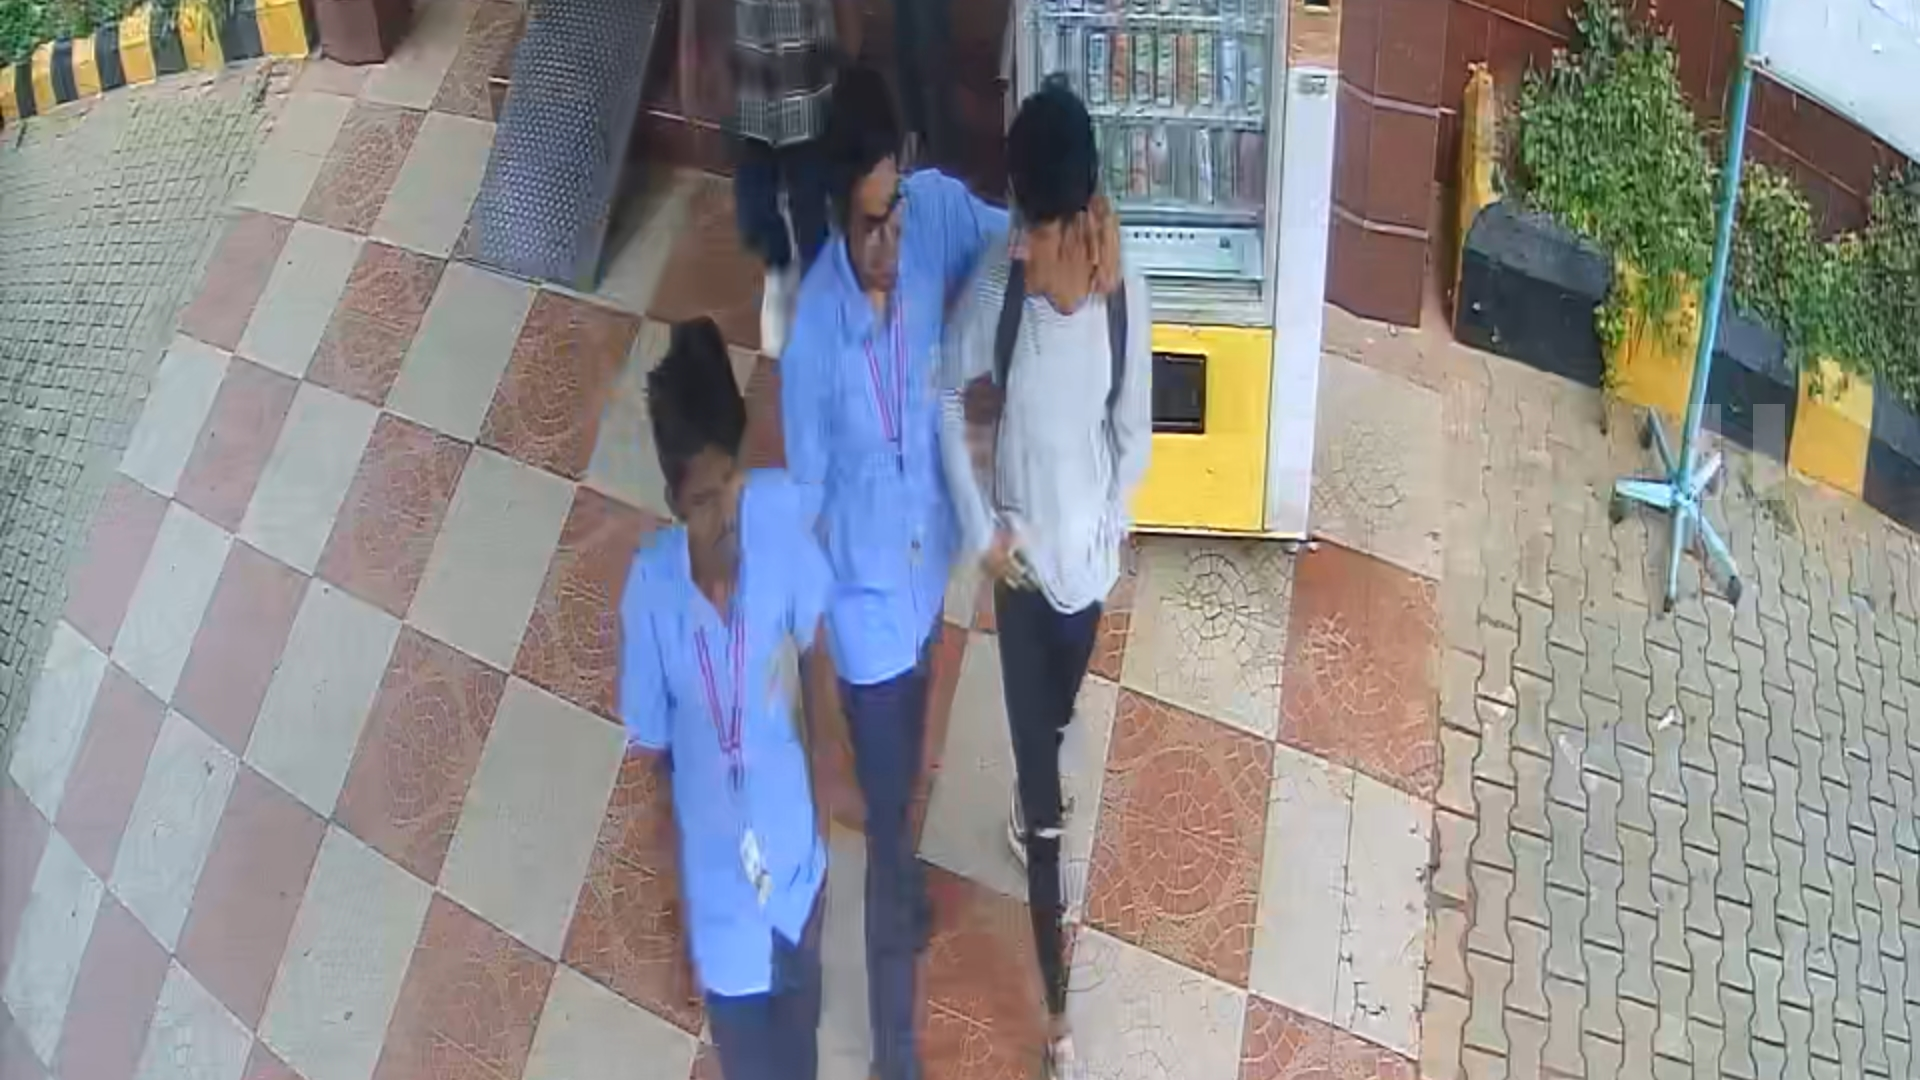intruder: (971, 76, 1160, 1067)
not intruder: (781, 47, 1011, 1080), (611, 299, 866, 1073)
